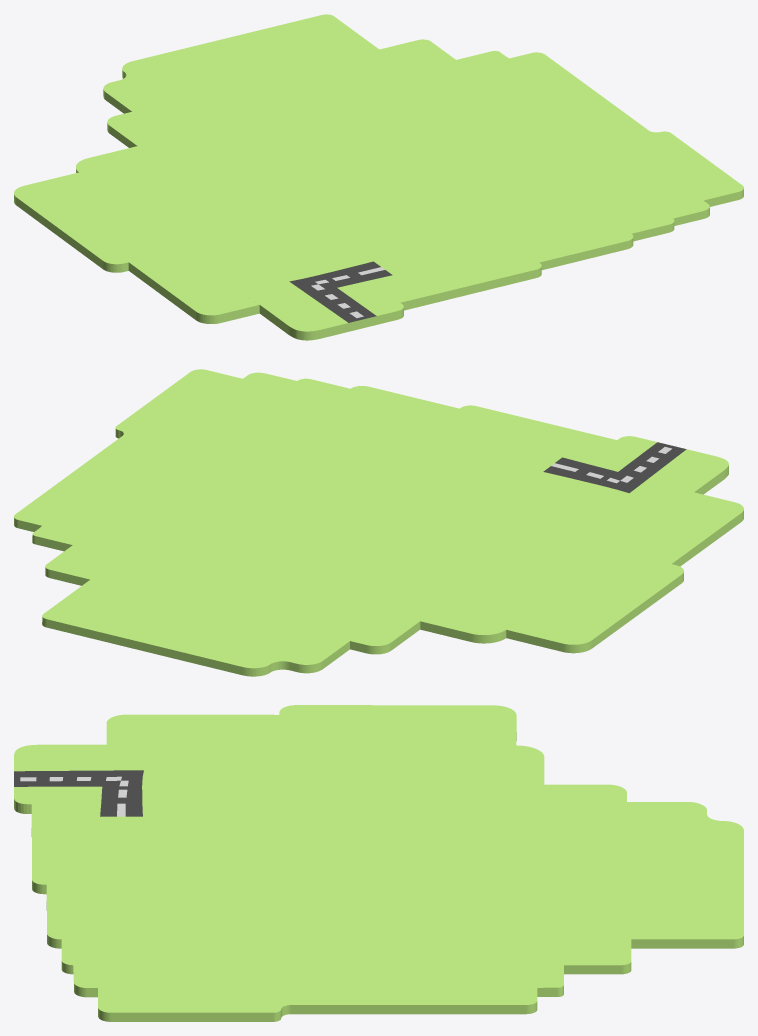
The model's file is ground.glb.
The picture shows the model from 3 angles, top to bottom: view 1: azimuth 30°, elevation 25°; view 2: azimuth 150°, elevation 25°; view 3: azimuth 270°, elevation 25°; orthographic projection. The views are drawn at different scales.
Parts seen in each view (by area): view 1: Cube; view 2: Cube; view 3: Cube.
Part boxes in pixels (<box>): Cube: <box>14,14,743,340</box>; Cube: <box>14,369,743,676</box>; Cube: <box>14,705,743,1021</box>.
Size of the model in its own units: 1009 by 15.5 by 1012.
